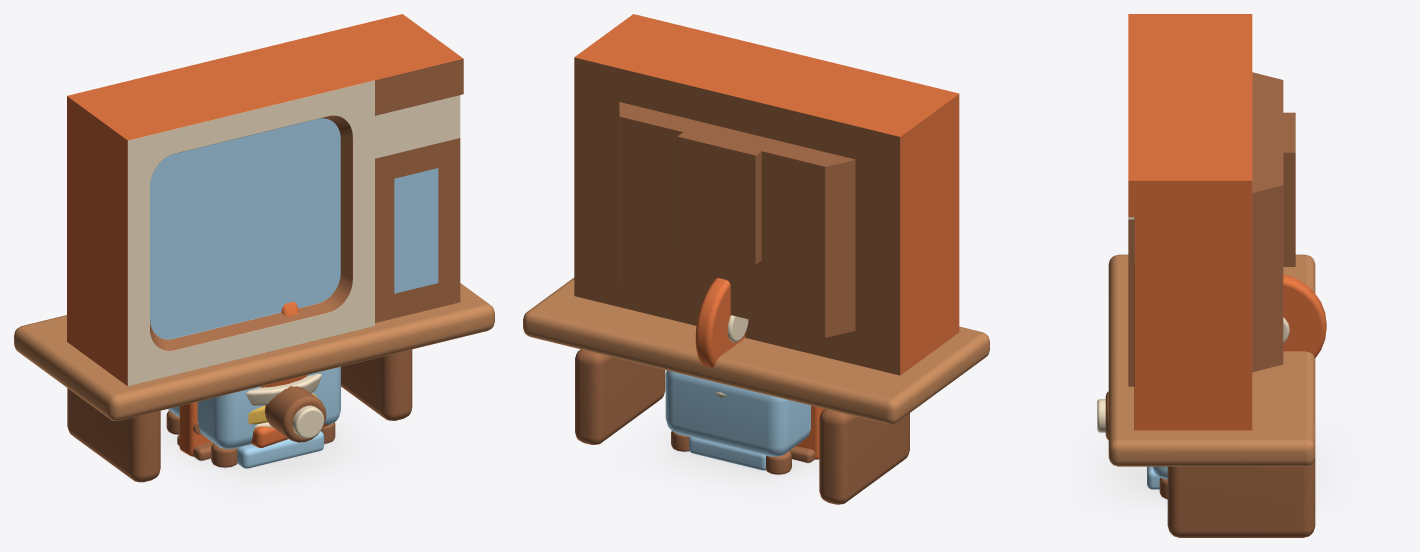
File: interest_movie_v1_1_draco_webp.glb
3 views of the same model, side by side, from view 1: azimuth 30°, elevation 25°; view 2: azimuth 150°, elevation 25°; view 3: azimuth 270°, elevation 25° (orthographic). The views are drawn at different scales.
Parts seen in each view (by area): view 1: tv_televisionvintage, tv_shelf, shadow_projector, tv_shelf_bracket_l, projector_body, tv_shelf_bracket_r, comic_stack, projector_lens, vhs_tapes, popcorn, projector_lens_glass; view 2: tv_televisionvintage, tv_shelf, projector_body, tv_shelf_bracket_l, tv_shelf_bracket_r, shadow_projector, projector_reel_back, comic_stack, vhs_tapes; view 3: tv_televisionvintage, tv_shelf, tv_shelf_bracket_r, shadow_projector, projector_reel_back.
Part boxes in pixels (bbox=[...]): tv_televisionvintage: bbox=[67, 14, 463, 386]; tv_shelf: bbox=[14, 283, 494, 420]; shadow_projector: bbox=[161, 409, 387, 495]; tv_shelf_bracket_l: bbox=[67, 388, 160, 482]; projector_body: bbox=[168, 367, 340, 449]; tv_shelf_bracket_r: bbox=[341, 349, 412, 420]; comic_stack: bbox=[237, 393, 329, 468]; projector_lens: bbox=[265, 386, 326, 442]; vhs_tapes: bbox=[179, 402, 211, 456]; popcorn: bbox=[246, 374, 321, 428]; projector_lens_glass: bbox=[292, 405, 324, 438]; tv_televisionvintage: bbox=[574, 14, 959, 375]; tv_shelf: bbox=[523, 277, 989, 424]; projector_body: bbox=[665, 370, 810, 456]; tv_shelf_bracket_l: bbox=[819, 409, 909, 504]; tv_shelf_bracket_r: bbox=[575, 349, 665, 444]; shadow_projector: bbox=[625, 418, 819, 498]; projector_reel_back: bbox=[695, 278, 745, 367]; comic_stack: bbox=[689, 437, 765, 470]; vhs_tapes: bbox=[796, 405, 824, 459]; tv_televisionvintage: bbox=[1128, 14, 1295, 430]; tv_shelf: bbox=[1108, 254, 1315, 466]; tv_shelf_bracket_r: bbox=[1167, 458, 1315, 537]; shadow_projector: bbox=[1078, 430, 1344, 514]; projector_reel_back: bbox=[1283, 274, 1326, 357].
Size of the model in its own units: 0.8004 by 0.7308 by 0.685.
7 materials, 1 textured.
